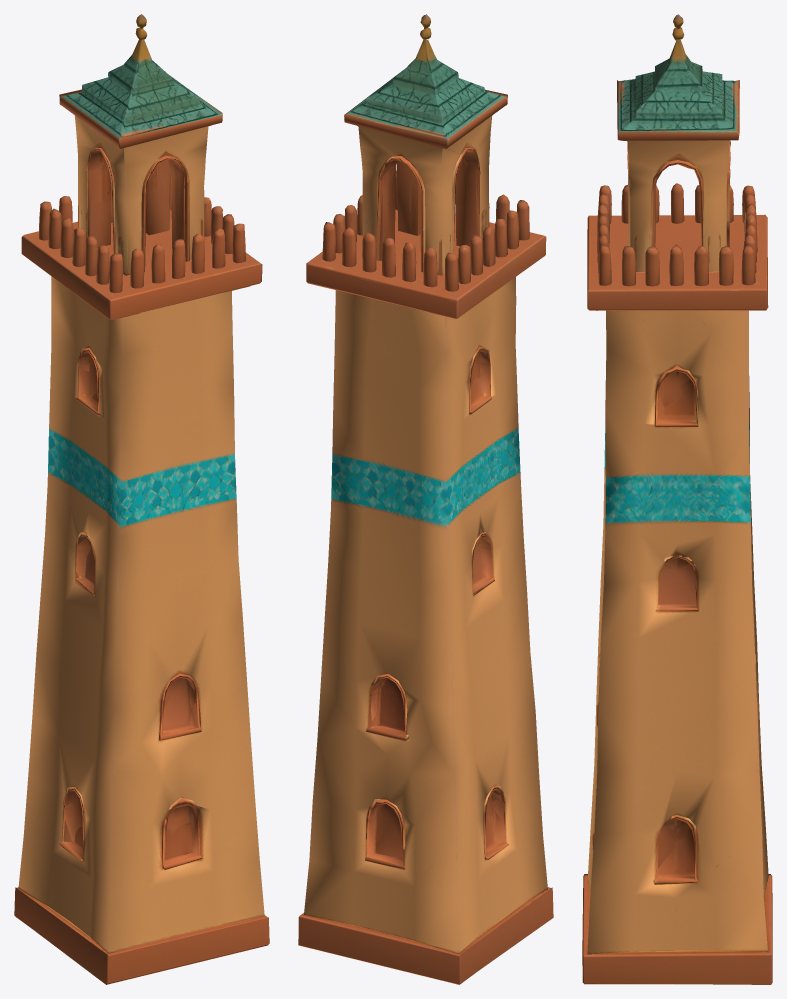
The model's file is hero_landmark.glb.
3 views of the same model, side by side, from view 1: azimuth 30°, elevation 25°; view 2: azimuth 150°, elevation 25°; view 3: azimuth 270°, elevation 25° (orthographic).
Bounding box in the file's own units: 0.1865 × 1 × 0.1855.
1 material, 1 textured.
